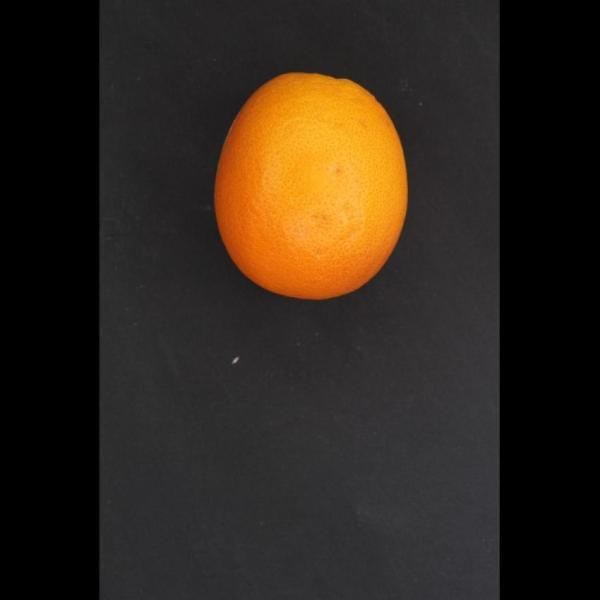Moho verde: (209, 63, 406, 307)
